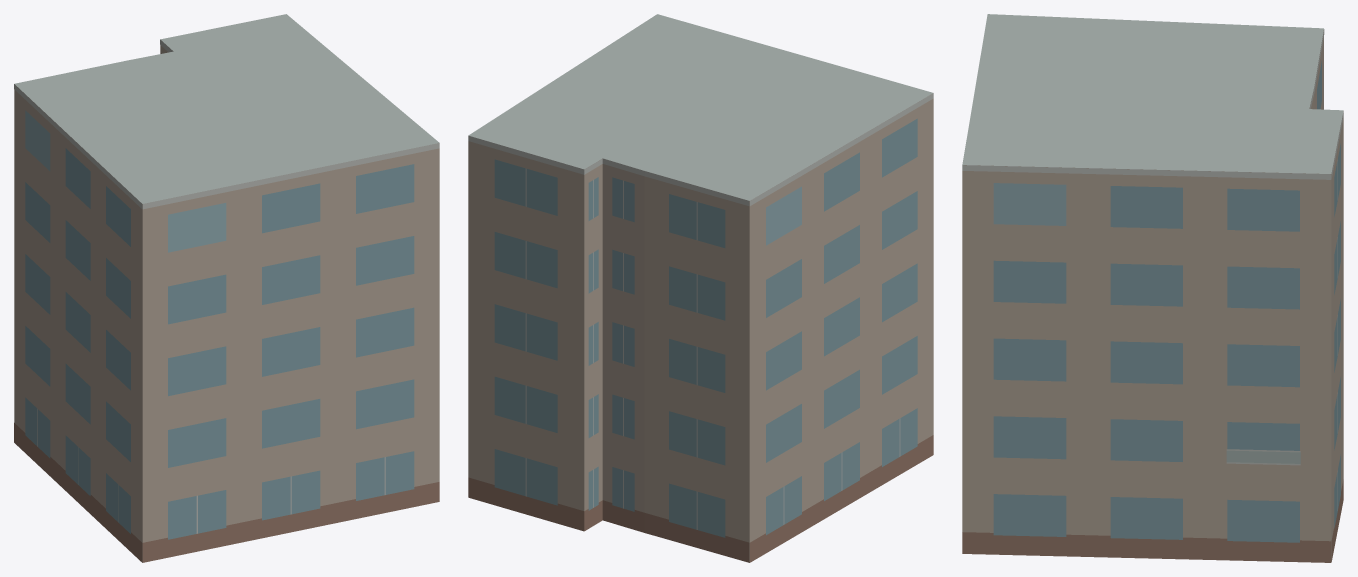
Rendered from survey-upis-32765976.glb.
The picture shows the model from 3 angles, left to right: view 1: azimuth 30°, elevation 25°; view 2: azimuth 150°, elevation 25°; view 3: azimuth 270°, elevation 25°; orthographic projection. The views are drawn at different scales.
Parts seen in each view (by area): view 1: survey-upis-32765976.tmp; view 2: survey-upis-32765976.tmp; view 3: survey-upis-32765976.tmp.
Part boxes in pixels (<box>): survey-upis-32765976.tmp: <box>14,14,439,562</box>; survey-upis-32765976.tmp: <box>468,14,933,562</box>; survey-upis-32765976.tmp: <box>962,14,1343,562</box>.
Bounding box in the file's own units: 14.31 × 16.2 × 14.41.
